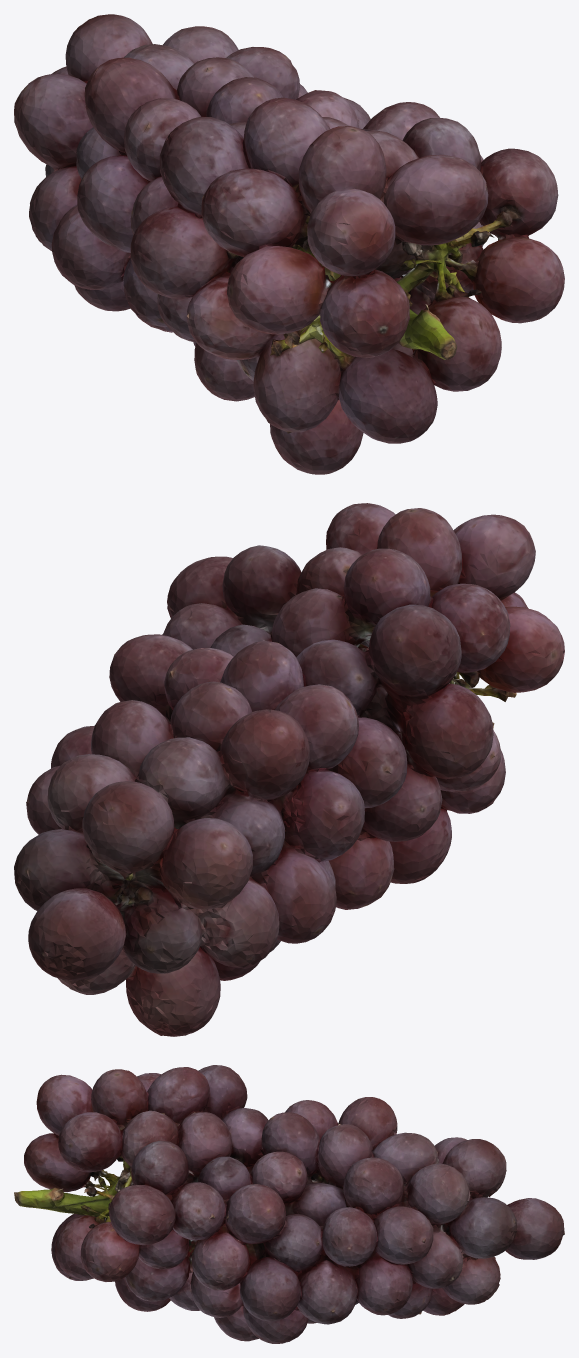
Rendered from grape02_Model_10.obj.
3 renders of one model, top to bottom at view 1: azimuth 30°, elevation 25°; view 2: azimuth 150°, elevation 25°; view 3: azimuth 270°, elevation 25°, orthographic. The views are drawn at different scales.
Parts seen in each view (by area): view 1: default; view 2: default; view 3: default.
Part boxes in pixels (x1,y1,x2,y2): default: [14, 14, 564, 474]; default: [14, 503, 564, 1036]; default: [14, 1065, 564, 1343].
Size of the model in its own units: 13.17 by 12.39 by 25.45.
Materials: 1 (1 with a texture image).
